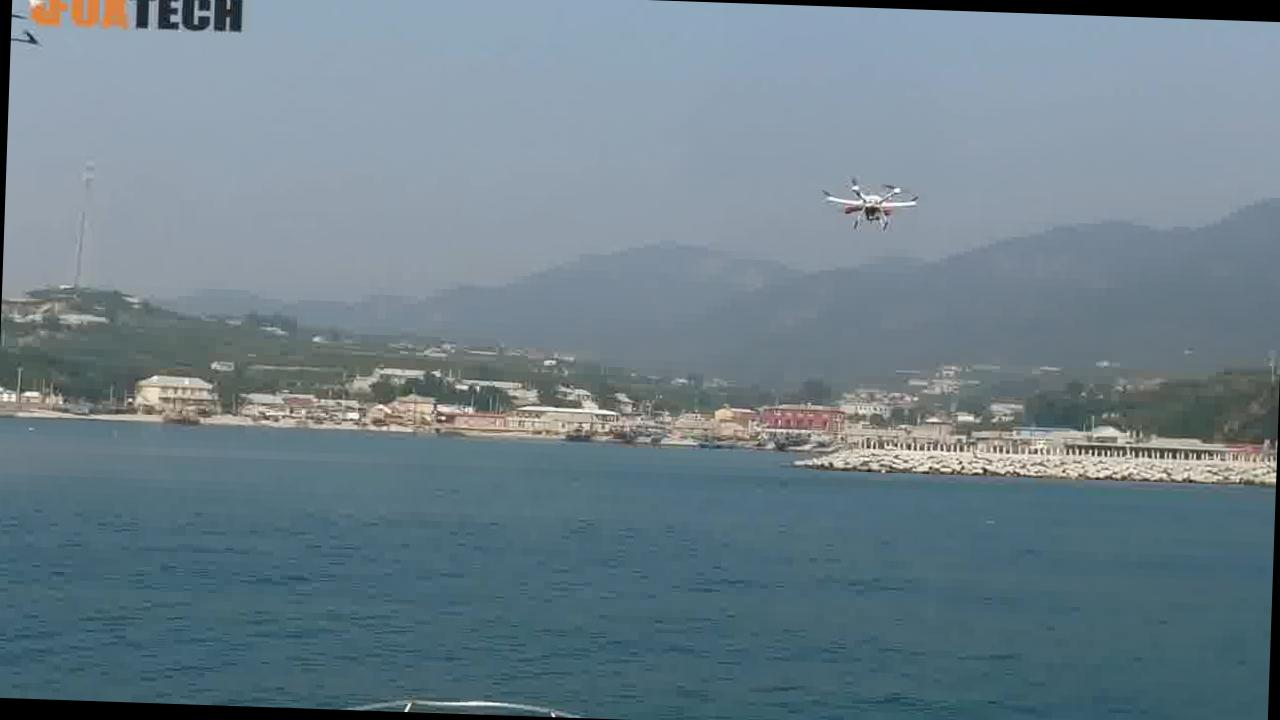drone: (803, 169, 934, 251)
